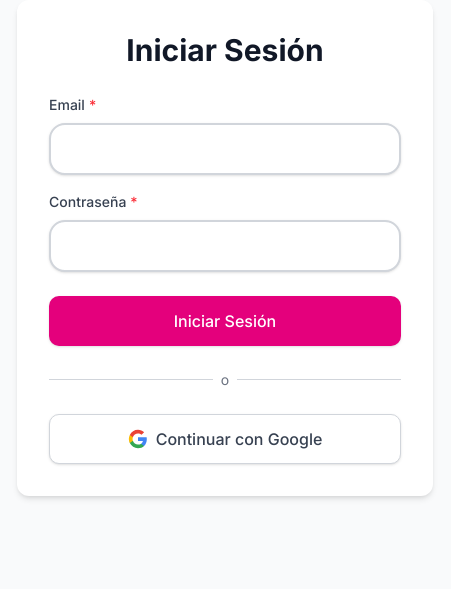
it: LoginForm - Accessibility Tests › ARIA Live Regions › should announce authentication errors to screen readers
The width and height of the screenshot is (451, 589).
Type "test@example.com" into the field labelled "Email*" at (225, 148), box top-left (49, 122), bottom-right (401, 174)
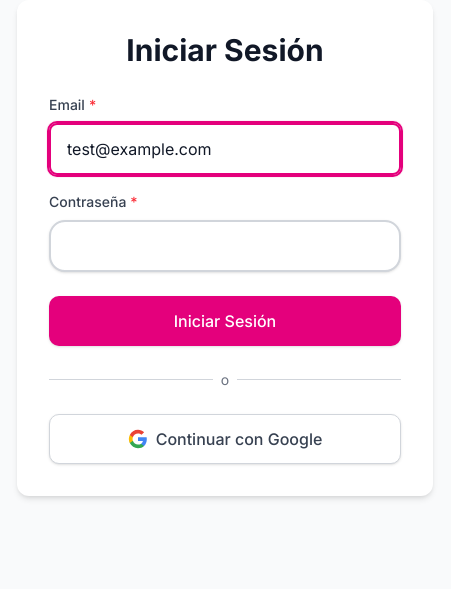
Type "wrongpassword" into the password field labelled "Contraseña*" at (225, 246), box top-left (49, 220), bottom-right (401, 272)
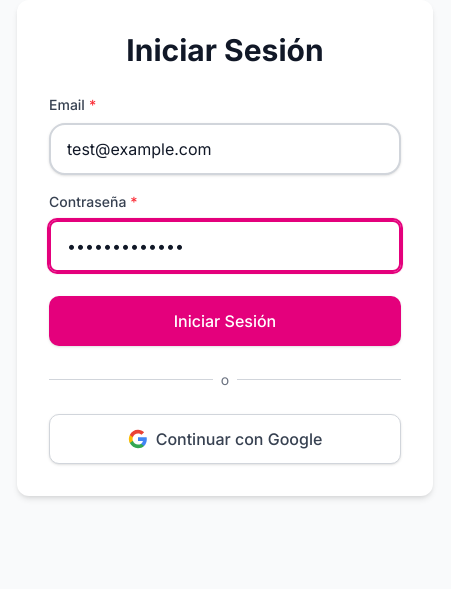
Click the button "Iniciar Sesión" at (225, 320), box top-left (49, 296), bottom-right (401, 346)
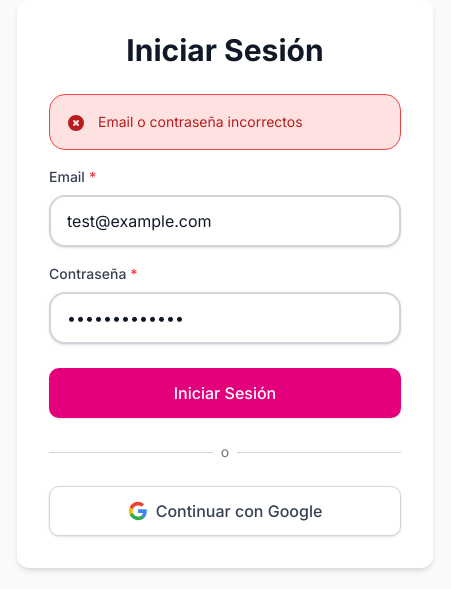
Now the message reads "Email o contraseña incorrectos", box top-left (98, 112), bottom-right (303, 130)
